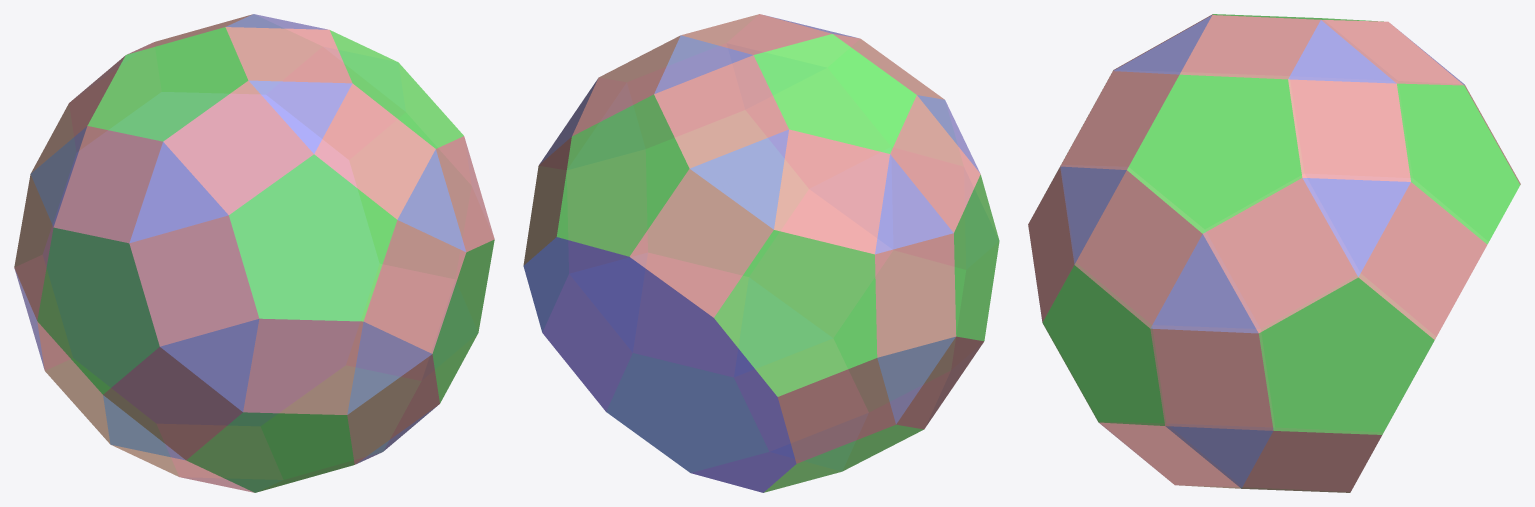
File: j76_diminished_rhombicosidodecahedron.obj
3 renders of one model, left to right at view 1: azimuth 30°, elevation 25°; view 2: azimuth 150°, elevation 25°; view 3: azimuth 270°, elevation 25°, orthographic. The views are drawn at different scales.
Bounding box in the file's own units: 1.99 × 1.98 × 1.94.
